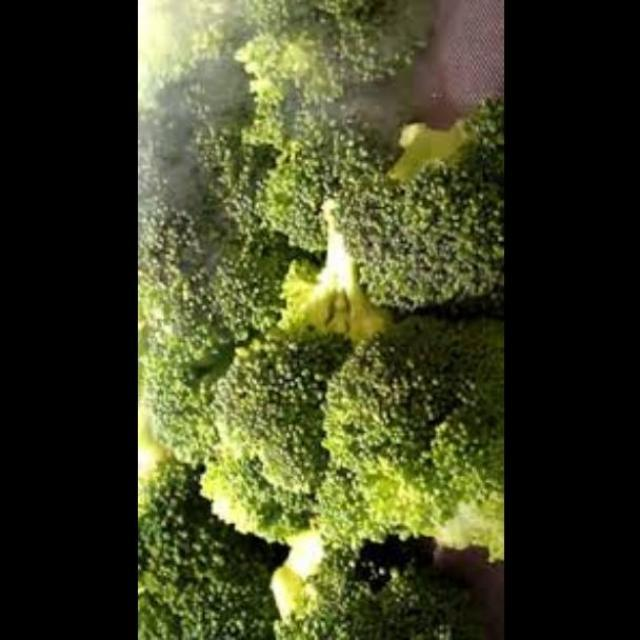Broccoli: (136, 1, 502, 632)
